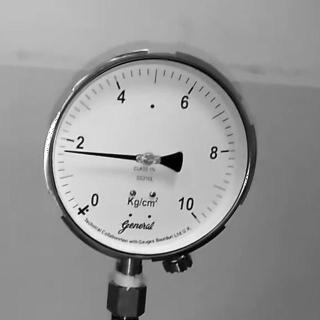gauge: (29, 38, 258, 264), (72, 189, 105, 223), (182, 204, 202, 224), (141, 150, 159, 166), (60, 147, 72, 155)
